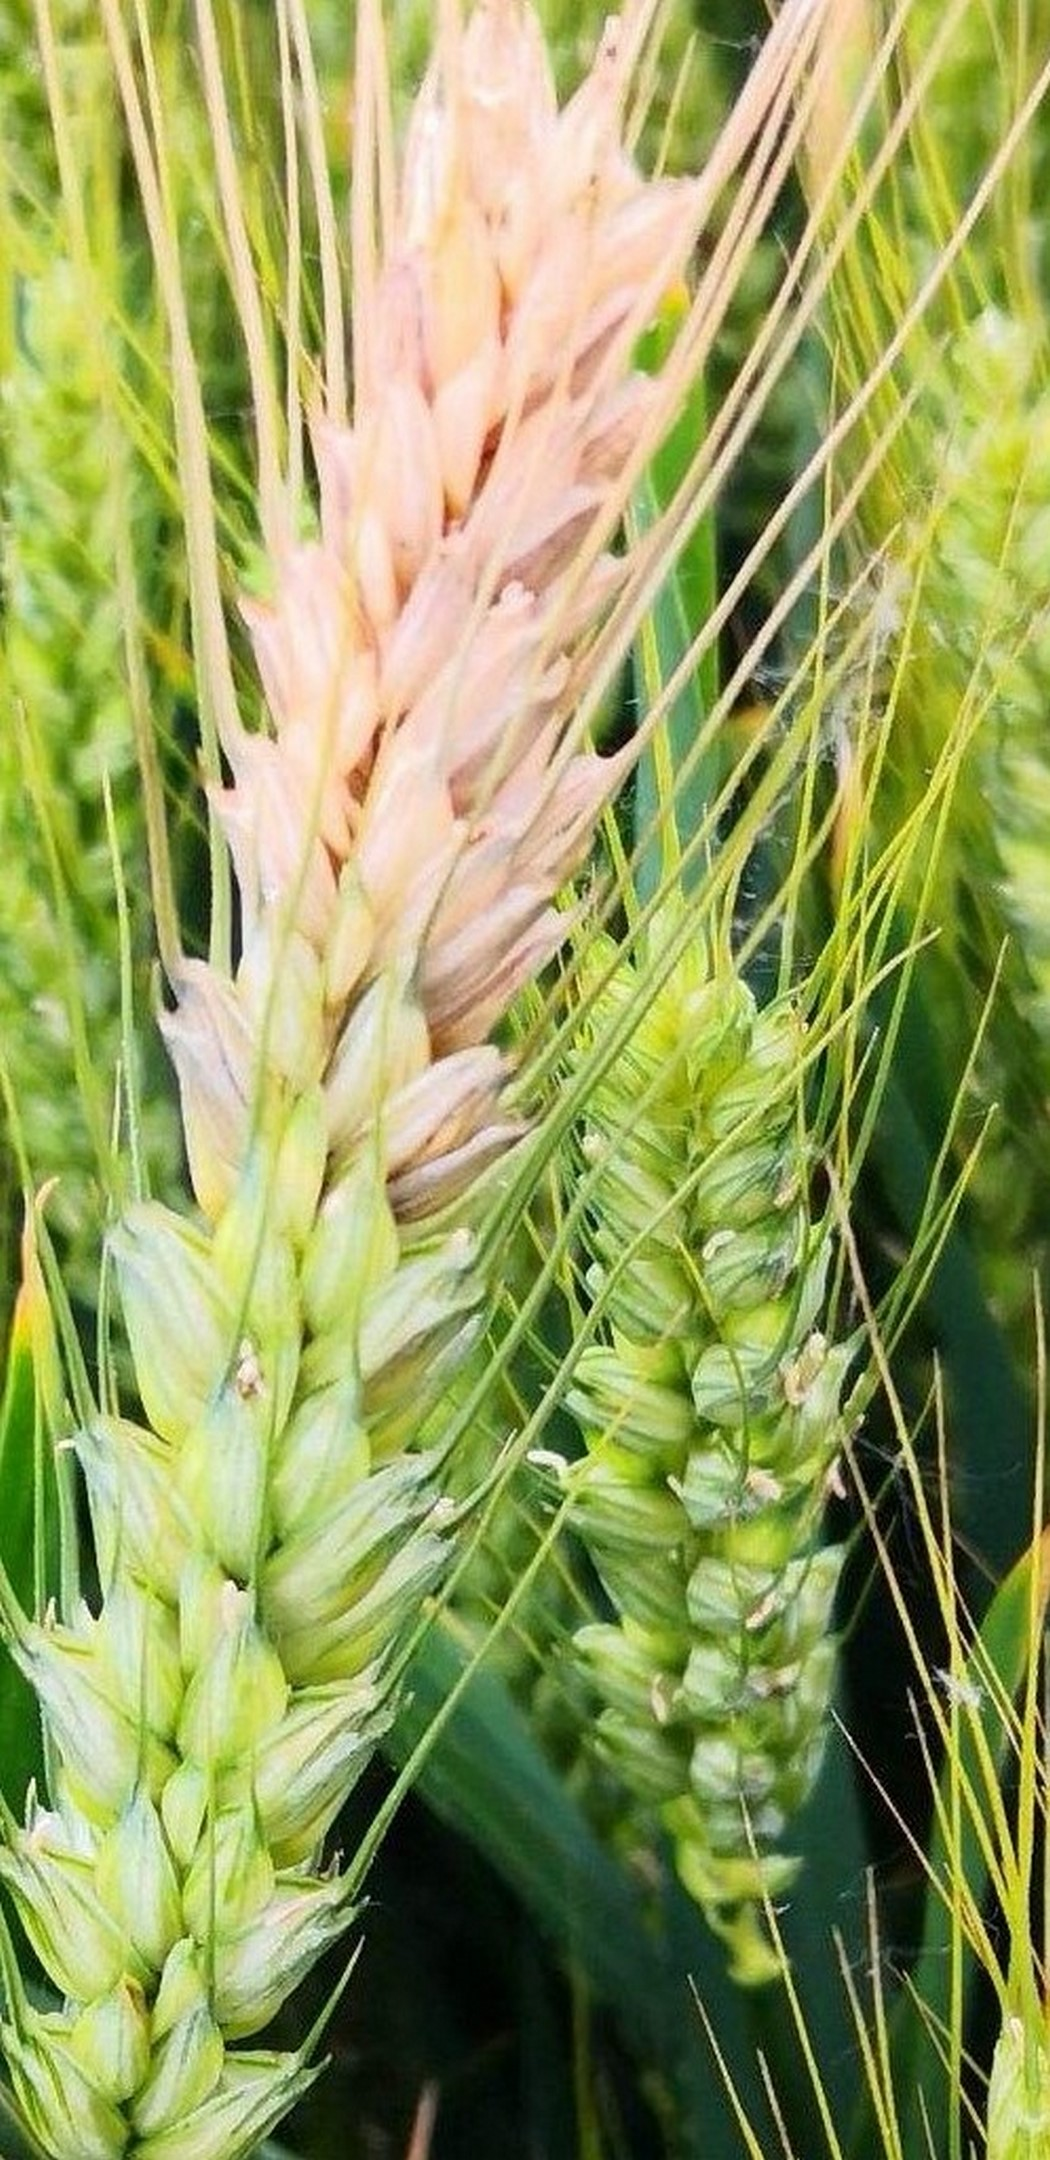Wheat scab: (61, 41, 710, 2066)
